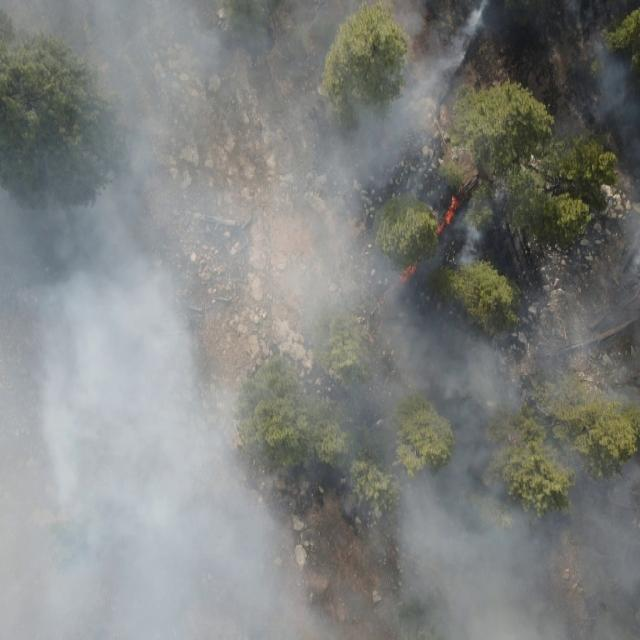fire: (376, 257, 422, 309), (432, 190, 462, 240)
smoke: (0, 0, 640, 640)
